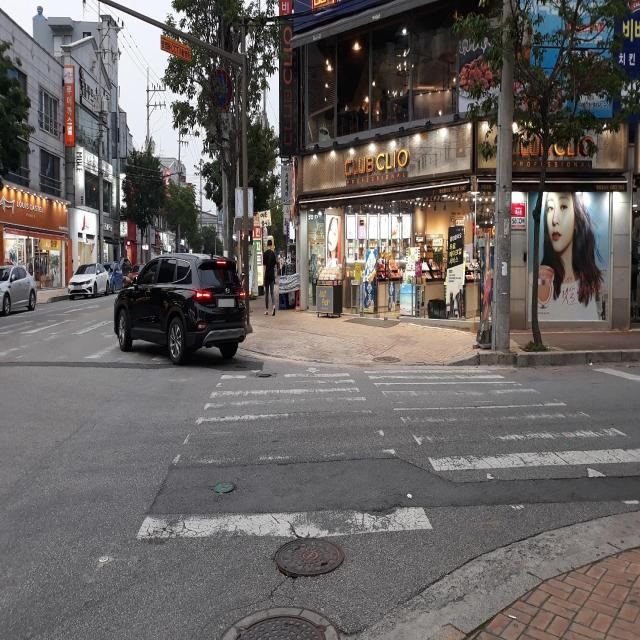횡단보도: (131, 362, 640, 543)
